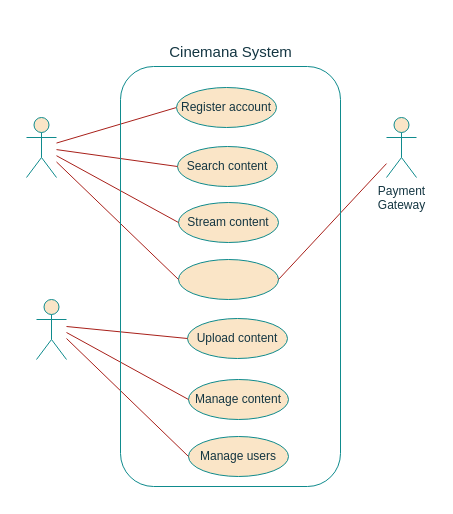
This 453x514 diagram has some shape labels left out. Each missing label, with the box of its shape:
Admin: (36, 298, 66, 360)
Payment: (178, 258, 278, 300)
User: (26, 116, 56, 178)
